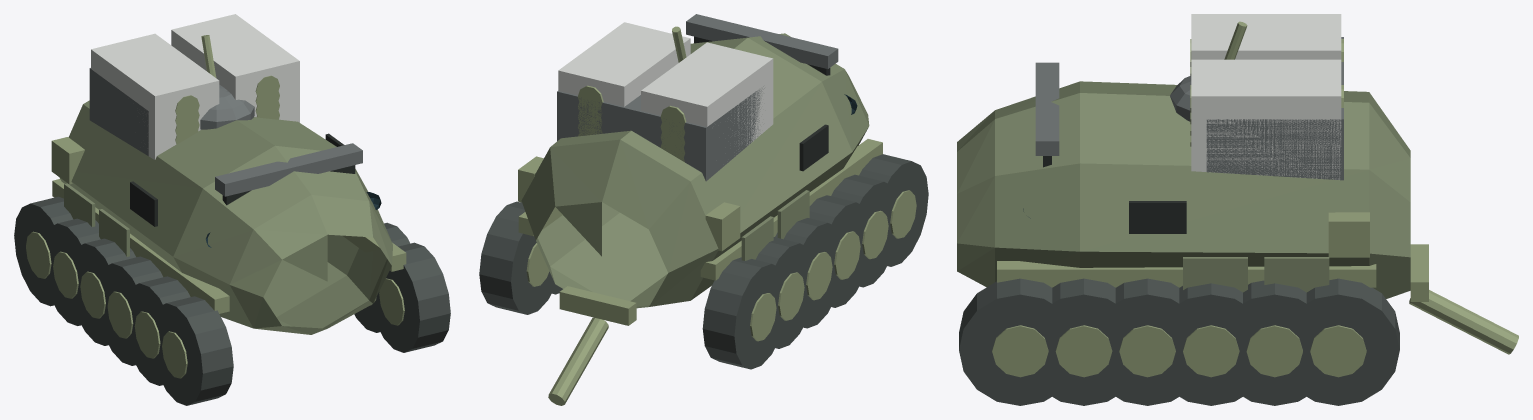
Rendered from astros-ii-mk6.glb.
3 renders of one model, left to right at view 1: azimuth 30°, elevation 25°; view 2: azimuth 150°, elevation 25°; view 3: azimuth 270°, elevation 25°, orthographic. The views are drawn at different scales.
Parts seen in each view (by area): view 1: astros-ii-mk6; view 2: astros-ii-mk6; view 3: astros-ii-mk6.
Part boxes in pixels (x1=…): astros-ii-mk6: x1=14, y1=14, x2=450, y2=405; astros-ii-mk6: x1=479, y1=14, x2=928, y2=405; astros-ii-mk6: x1=957, y1=14, x2=1518, y2=405.
Size of the model in its own units: 1.89 by 2.02 by 3.11.
